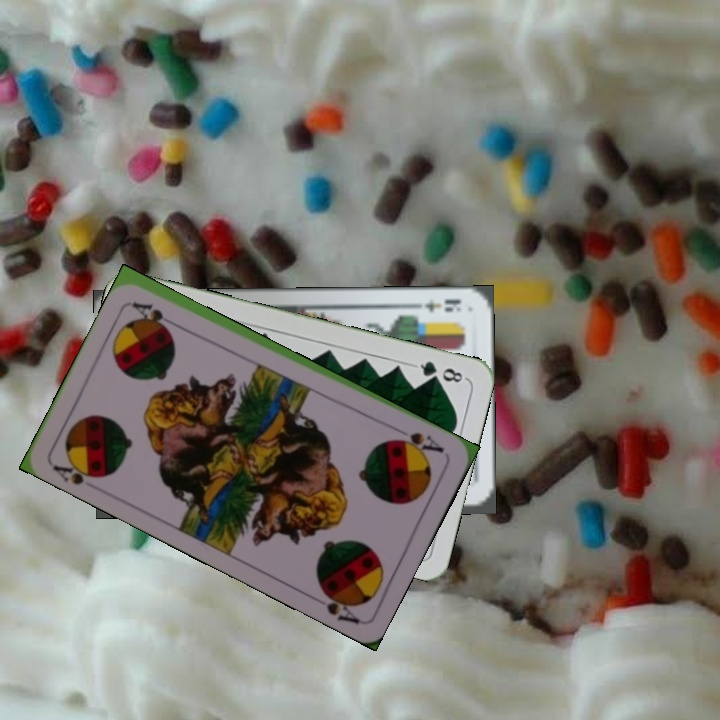EK: (408, 295, 464, 315)
G8: (410, 357, 469, 385)
SA: (48, 453, 109, 488), (390, 428, 447, 457)
